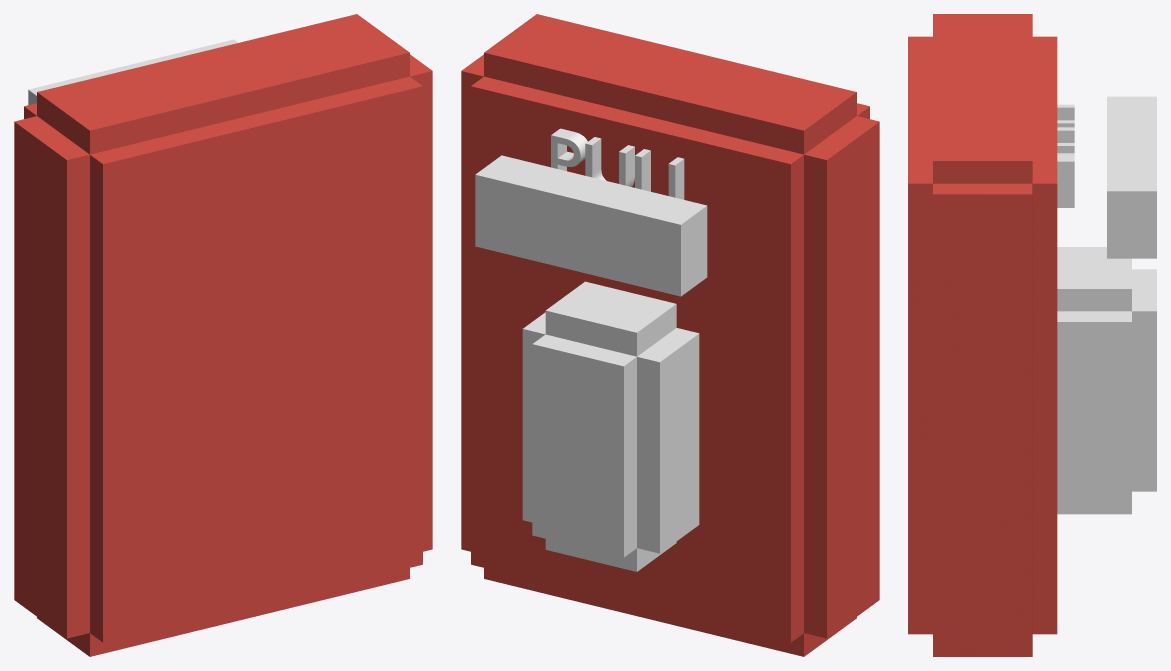
File: red_handle.glb
3 renders of one model, left to right at view 1: azimuth 30°, elevation 25°; view 2: azimuth 150°, elevation 25°; view 3: azimuth 270°, elevation 25°, orthographic. The views are drawn at different scales.
Parts seen in each view (by area): view 1: red_handle; view 2: red_handle; view 3: red_handle.
Part boxes in pixels (bbox=[...]): red_handle: bbox=[14, 14, 432, 656]; red_handle: bbox=[461, 14, 879, 656]; red_handle: bbox=[908, 14, 1156, 656].
Size of the model in its own units: 0.16 by 0.22 by 0.1.
